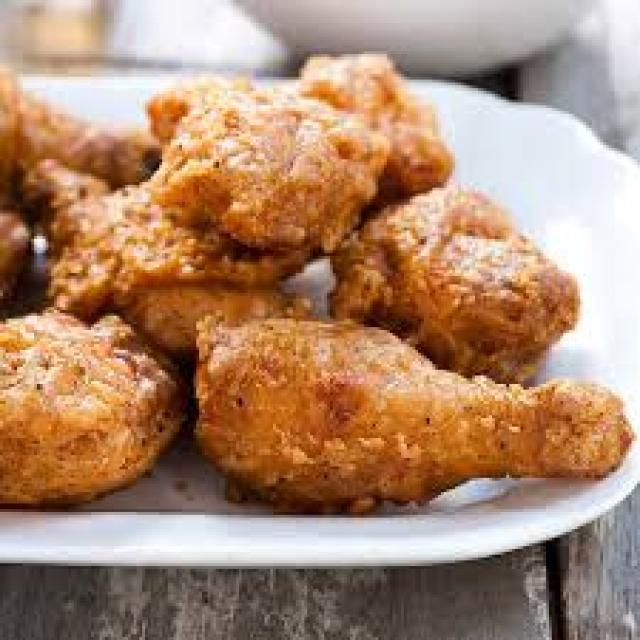Frango: (0, 51, 640, 546)
